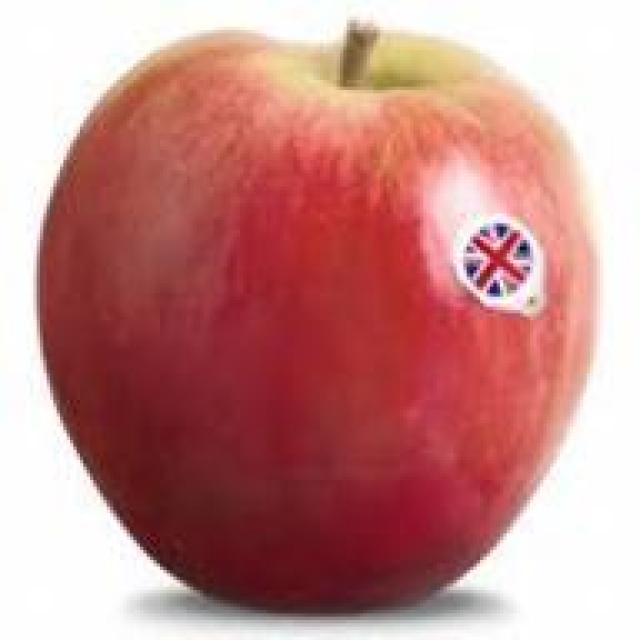apple: (54, 27, 604, 613)
